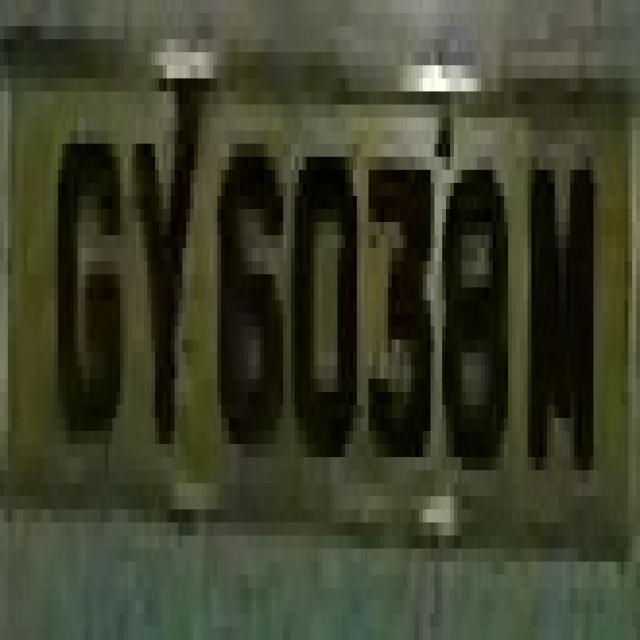0: (287, 131, 357, 470)
3: (364, 92, 434, 510)
6: (206, 118, 294, 483)
8: (438, 130, 516, 510)
G: (46, 92, 132, 457)
M: (520, 91, 601, 522)
Y: (120, 39, 202, 444)
